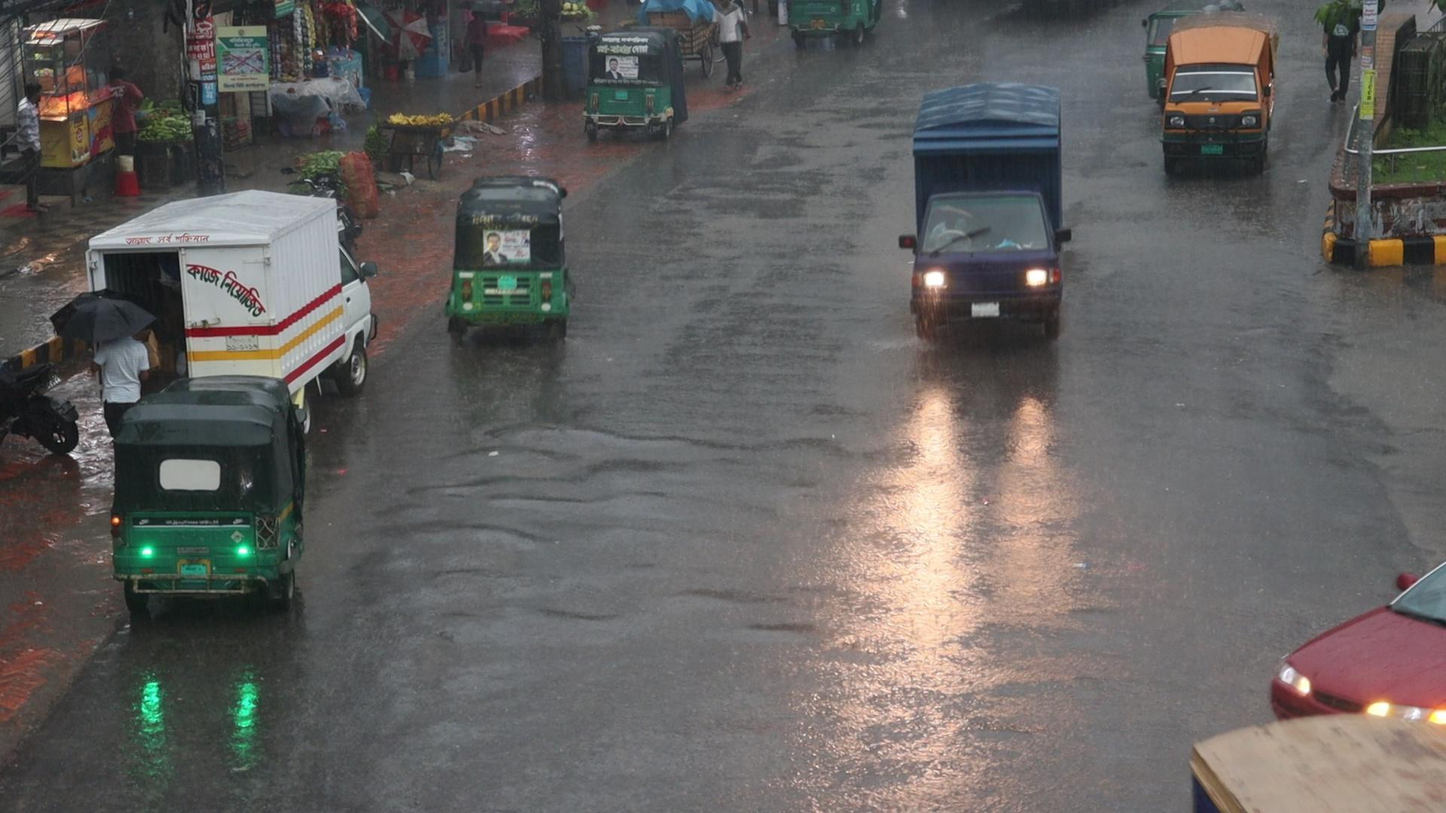Truck: (908, 76, 1067, 350), (1158, 24, 1280, 168)
